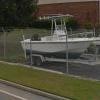Boat: (11, 25, 93, 63)
